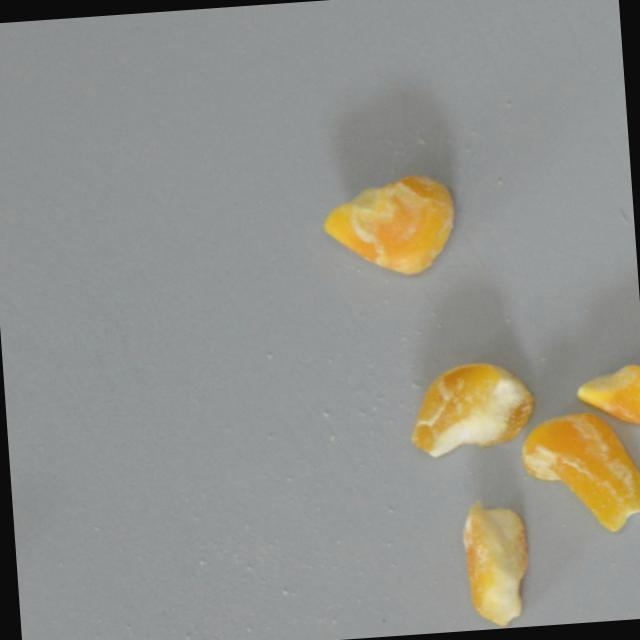pelicula: (516, 404, 640, 538), (319, 171, 460, 278), (404, 356, 539, 458), (459, 496, 535, 628), (574, 359, 640, 430)
